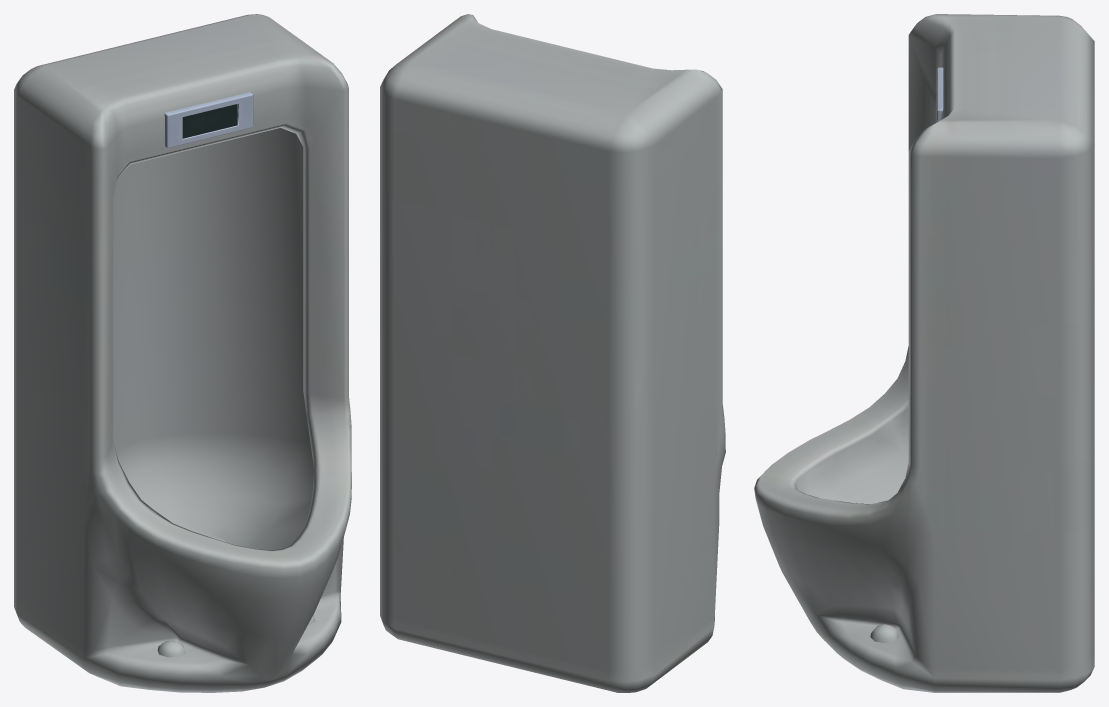
3 renders of one model, left to right at view 1: azimuth 30°, elevation 25°; view 2: azimuth 150°, elevation 25°; view 3: azimuth 270°, elevation 25°, orthographic. The views are drawn at different scales.
Size of the model in its own units: 4.86 by 9.86 by 5.35.
2 materials, 2 textured.
